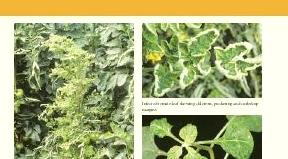Tomato leaf yellow virus: (215, 41, 259, 82), (216, 120, 261, 159), (188, 26, 222, 57), (151, 61, 179, 96), (175, 123, 202, 148), (176, 61, 200, 88)
